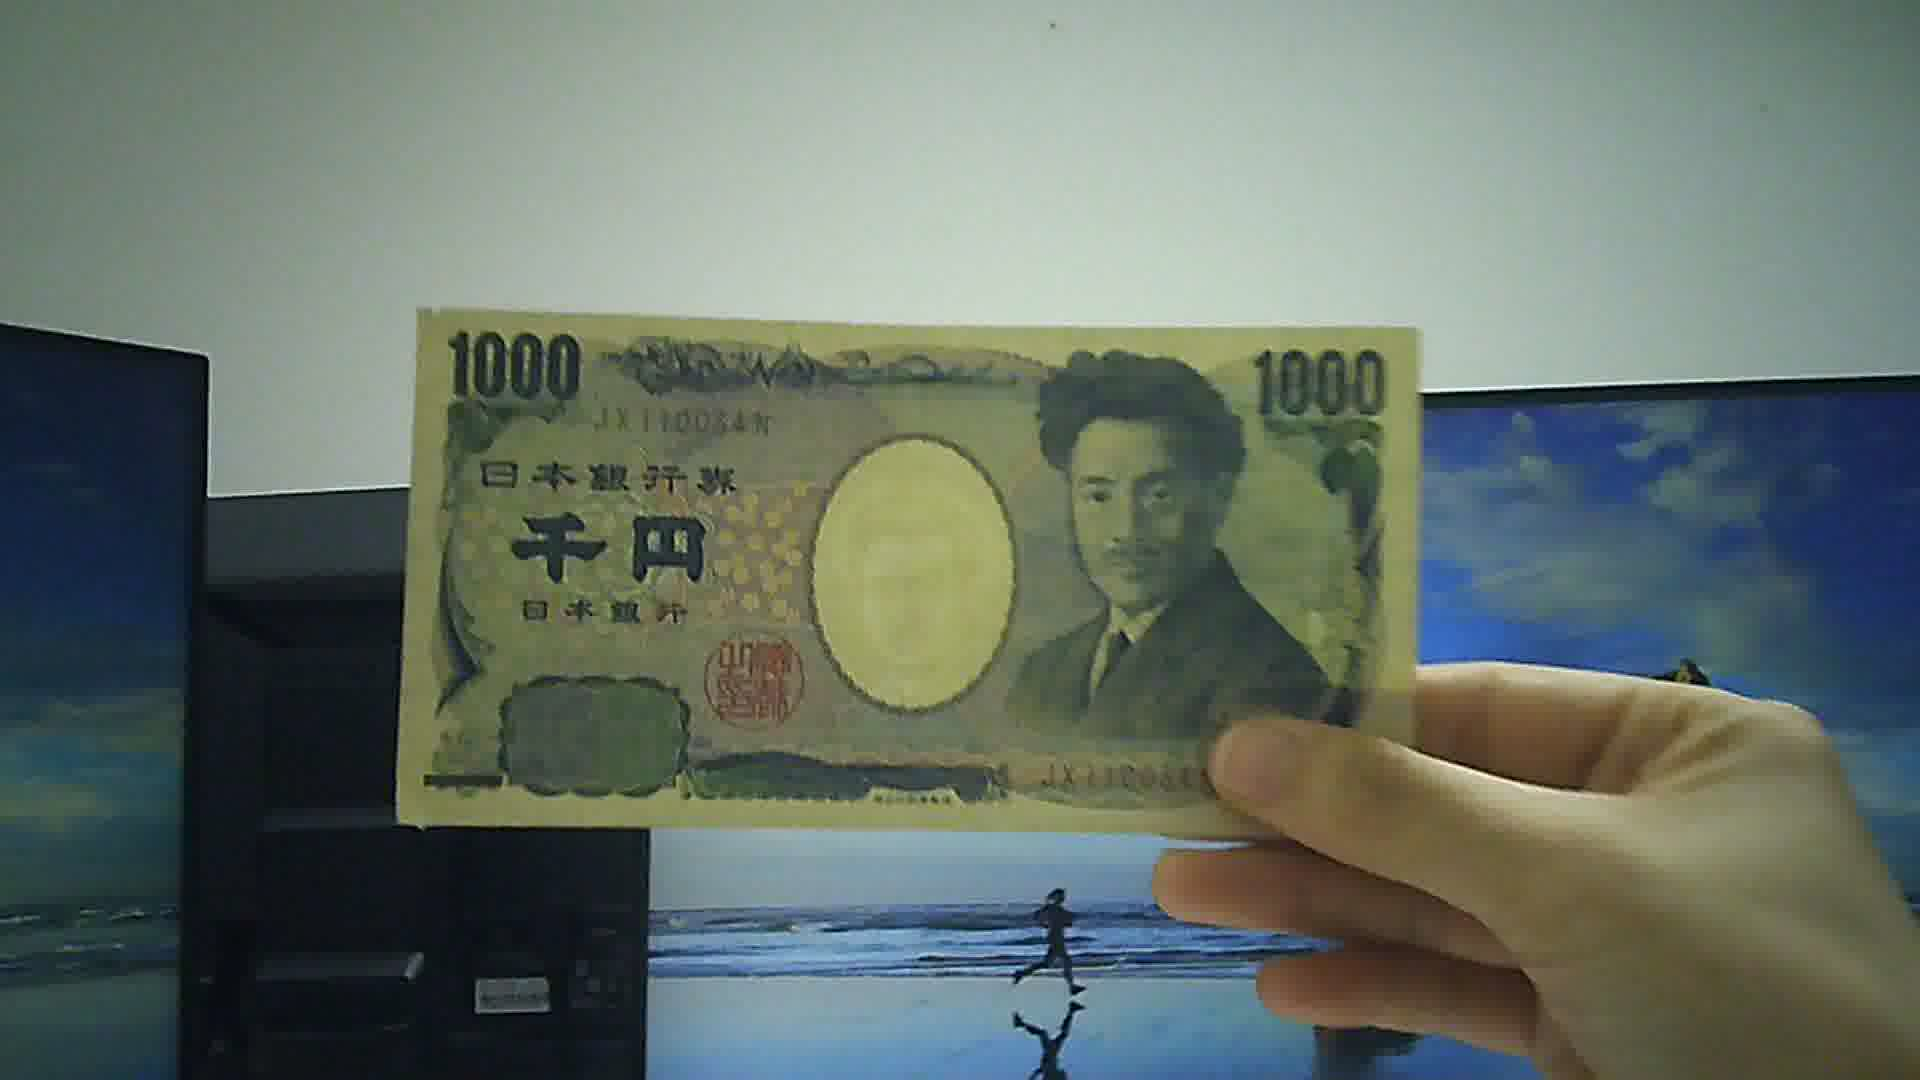1,000 Yen: (384, 291, 1420, 804)
